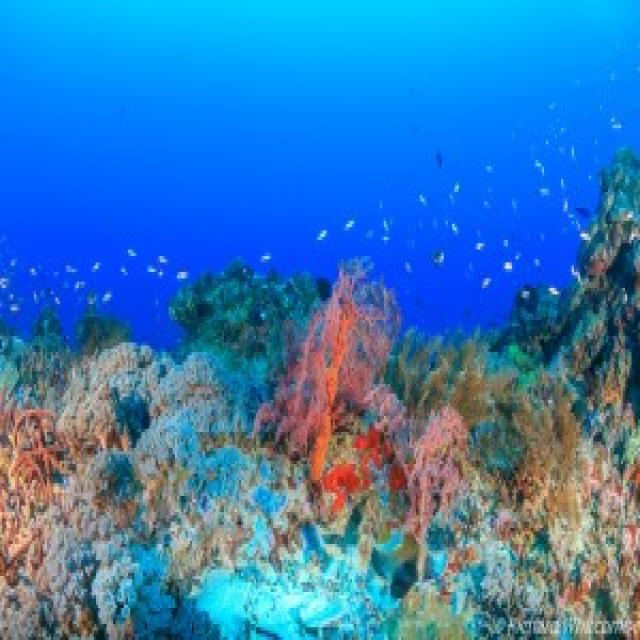Healthy: (257, 267, 398, 459), (42, 507, 176, 635), (509, 375, 586, 551), (133, 395, 229, 532), (445, 539, 562, 638), (430, 334, 513, 430), (406, 407, 468, 532), (76, 343, 172, 411), (155, 353, 231, 430), (61, 382, 129, 452)
